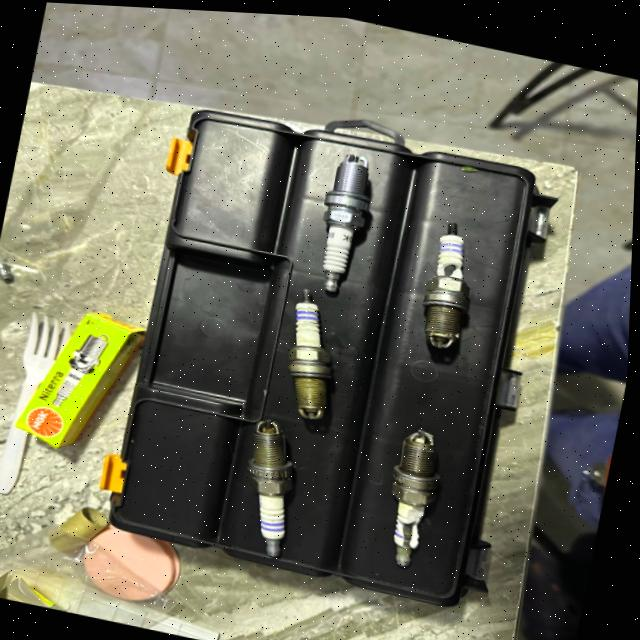damaged_spark-plug: (411, 206, 497, 352), (377, 419, 453, 573)
spark-plug: (224, 410, 319, 559), (306, 142, 386, 295), (268, 278, 350, 419)
